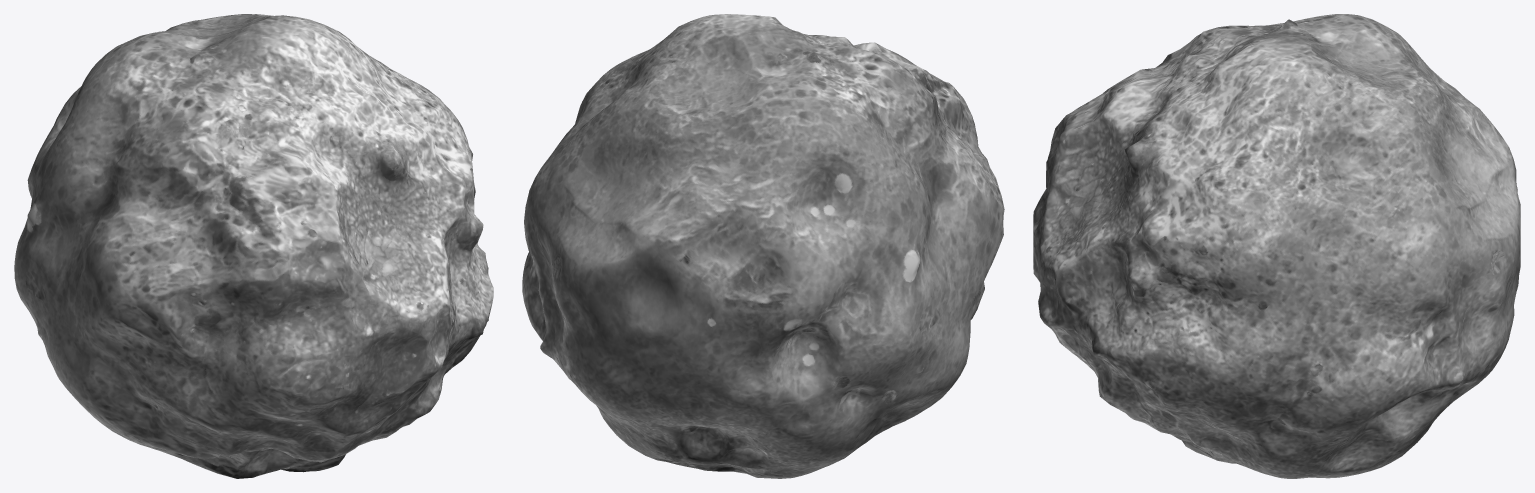
File: big_03.glb
The picture shows the model from 3 angles, left to right: view 1: azimuth 30°, elevation 25°; view 2: azimuth 150°, elevation 25°; view 3: azimuth 270°, elevation 25°; orthographic projection. The views are drawn at different scales.
Parts seen in each view (by area): view 1: big_03; view 2: big_03; view 3: big_03.
Part boxes in pixels (x1=…): big_03: x1=14, y1=14, x2=493, y2=478; big_03: x1=522, y1=14, x2=1004, y2=478; big_03: x1=1033, y1=14, x2=1520, y2=478.
Bounding box in the file's own units: 1.69 × 1.7 × 1.86.
Materials: 1 (1 with a texture image).
